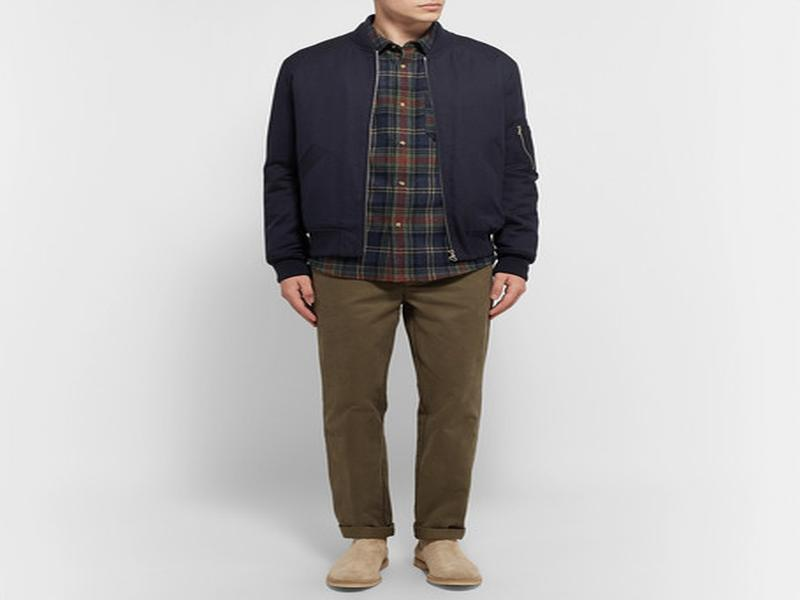shoes_men_chelsea_chelseaboots_suede_none_none_beige_none: (401, 538, 491, 594), (323, 534, 394, 594)
